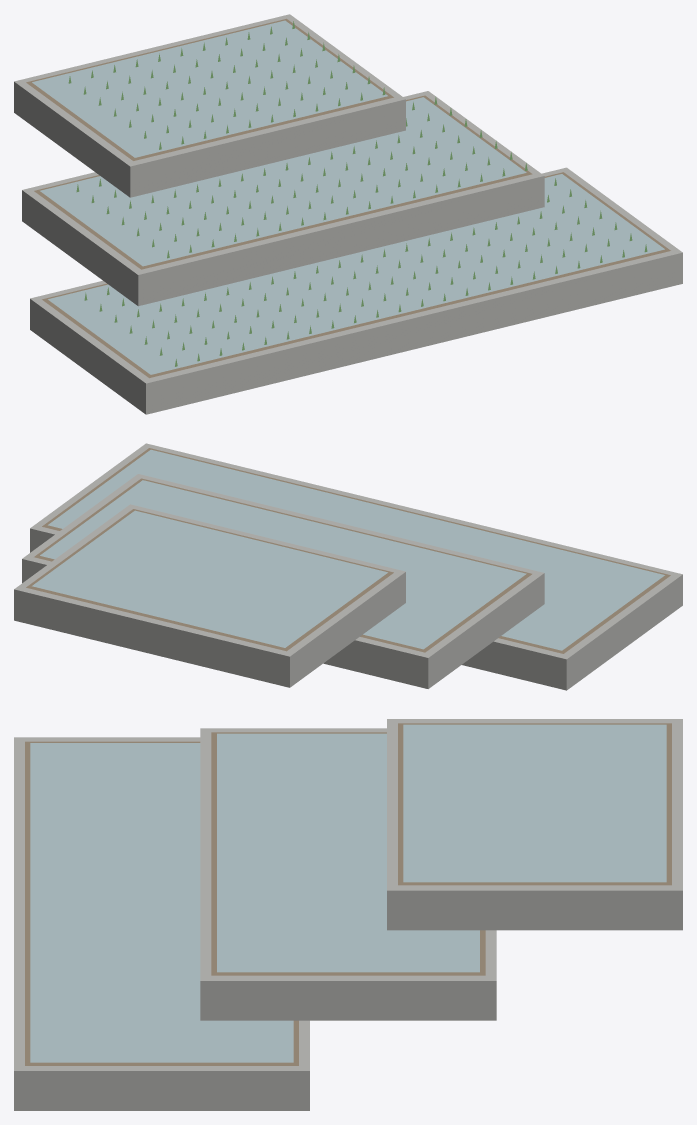
The model's file is rice_terrace_tanada.glb.
The picture shows the model from 3 angles, top to bottom: view 1: azimuth 30°, elevation 25°; view 2: azimuth 150°, elevation 25°; view 3: azimuth 270°, elevation 25°; orthographic projection. The views are drawn at different scales.
Parts seen in each view (by area): view 1: rice_terrace_tanada; view 2: rice_terrace_tanada; view 3: rice_terrace_tanada.
Part boxes in pixels (x1=…): rice_terrace_tanada: x1=14, y1=14, x2=682, y2=414; rice_terrace_tanada: x1=14, y1=443, x2=682, y2=690; rice_terrace_tanada: x1=14, y1=719, x2=682, y2=1110.
Size of the model in its own units: 14.4 by 3.05 by 12.2.
